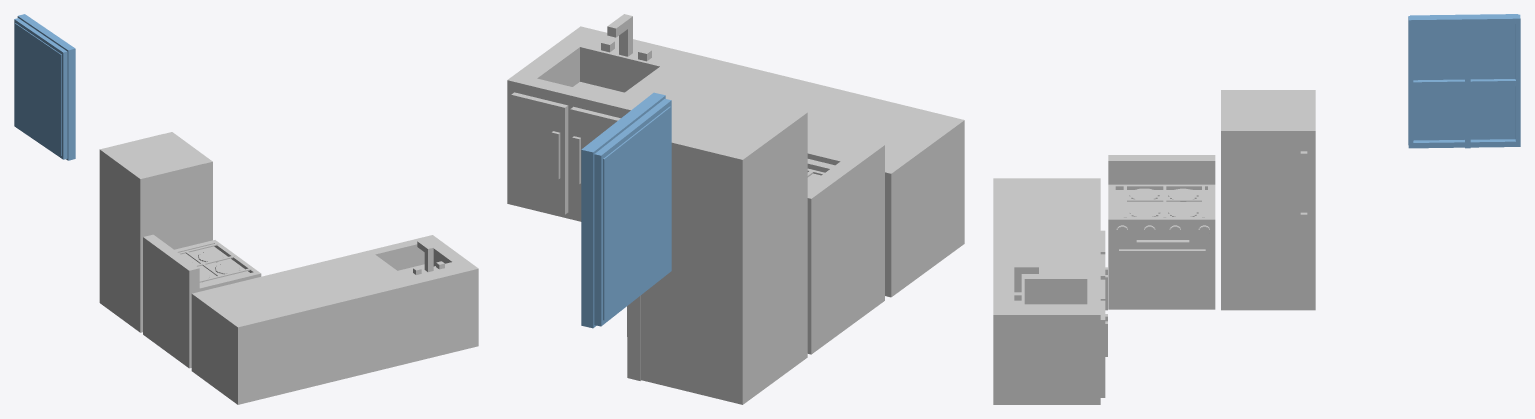
File: Ventana.fbx
The picture shows the model from 3 angles, left to right: view 1: azimuth 30°, elevation 25°; view 2: azimuth 150°, elevation 25°; view 3: azimuth 270°, elevation 25°; orthographic projection. The views are drawn at different scales.
Parts seen in each view (by area): view 1: Cube.002, refrigerador, estufa.015, ventana; view 2: refrigerador, Cube.002, ventana, estufa.015, Cube.001, Cube.003, Cube.006, Cube.007; view 3: Cube.002, refrigerador, estufa.015, ventana, Cube.001.
Part boxes in pixels (x1,y1,x2,y2): Cube.002: (191, 235, 478, 404); refrigerador: (99, 132, 212, 332); estufa.015: (143, 234, 261, 368); ventana: (14, 14, 75, 160); refrigerador: (627, 84, 807, 404); Cube.002: (507, 14, 964, 297); ventana: (581, 92, 671, 328); estufa.015: (807, 141, 884, 354); Cube.001: (511, 92, 568, 214); Cube.003: (570, 106, 620, 218); Cube.006: (551, 131, 560, 179); Cube.007: (572, 136, 580, 184); Cube.002: (993, 178, 1100, 404); refrigerador: (1221, 90, 1315, 310); estufa.015: (1108, 155, 1215, 309); ventana: (1408, 14, 1520, 148); Cube.001: (1100, 300, 1105, 397).
Size of the model in its own units: 751 by 662 by 1225.
